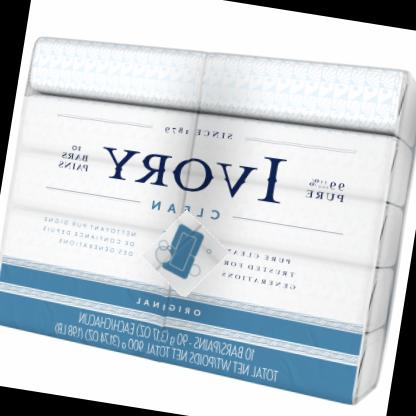soap: (142, 210, 226, 296)
